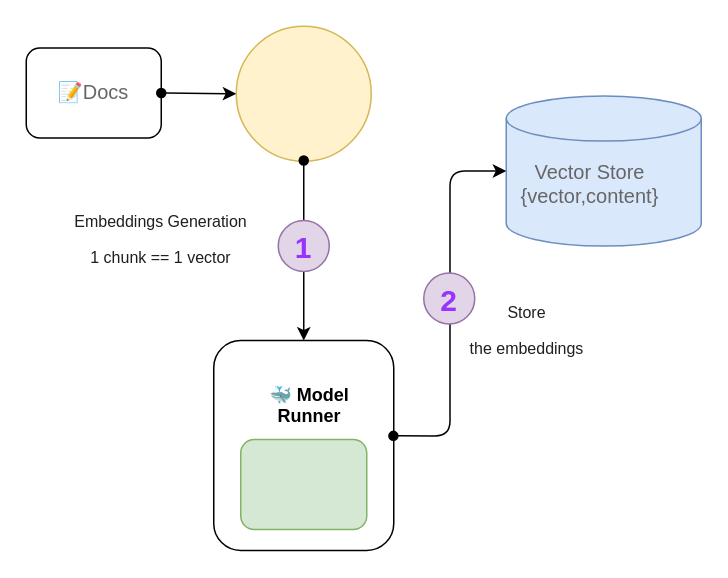
Some shapes in this 728 by 578 pixel diagram are drawn without their labels. The centre of each missing label's shape, as x and y in pixels:
"Embedding LLMs" belongs at (x=303, y=484).
"📦📦📦 Chunk the data" belongs at (x=303, y=93).
